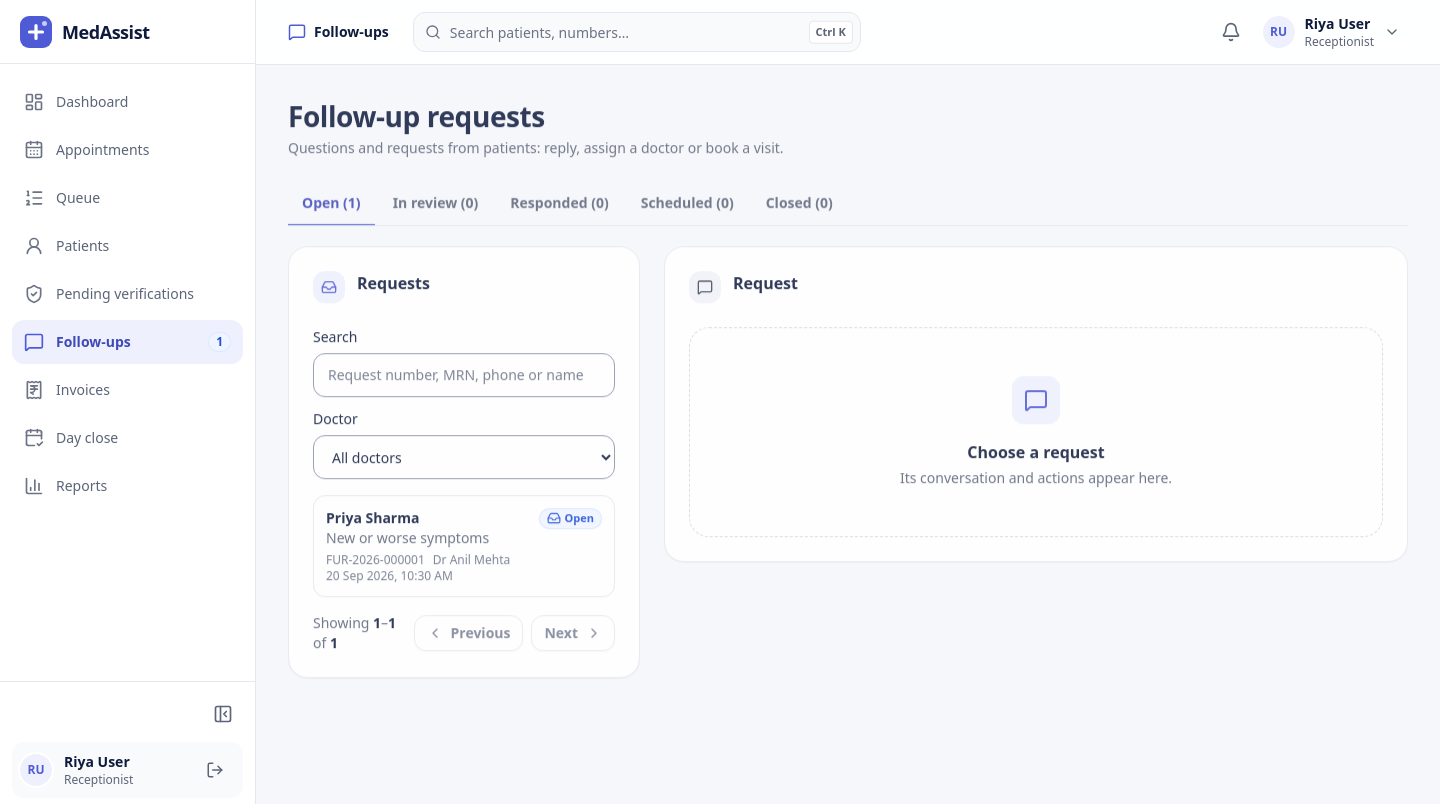
Test: Reception inbox › shows status tabs with counts and the open request beside the list
Expected: the tab "Closed (0)" is shown, [752,182,847,226]
Click the link "Priya Sharma": point(464, 546) [313,495,615,597]
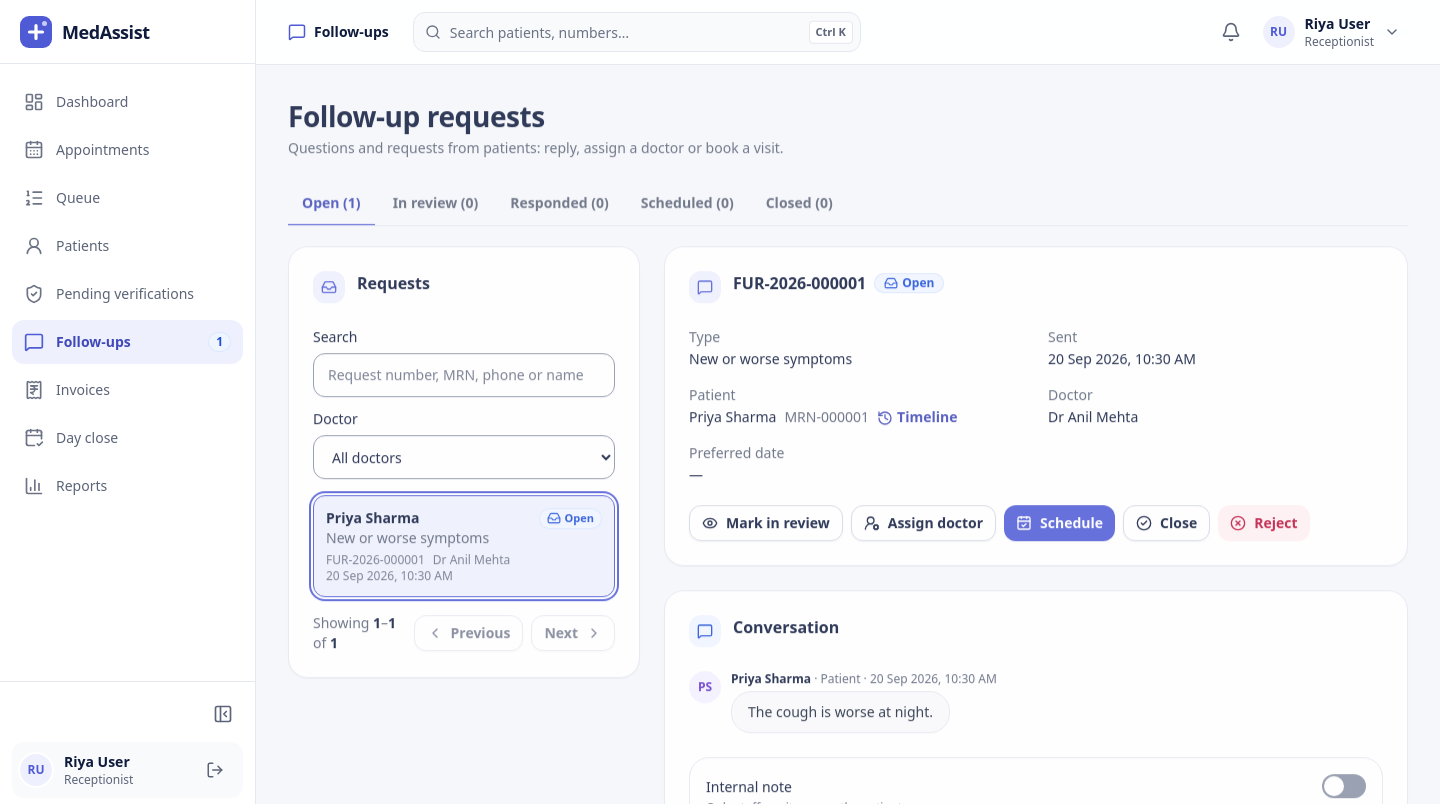
Now the list named "Messages" is shown, box [689,669,997,732]
Now the button "Mark in review" is shown, box [689,504,843,540]
Now the button "Assign doctor" is shown, box [851,504,996,540]
